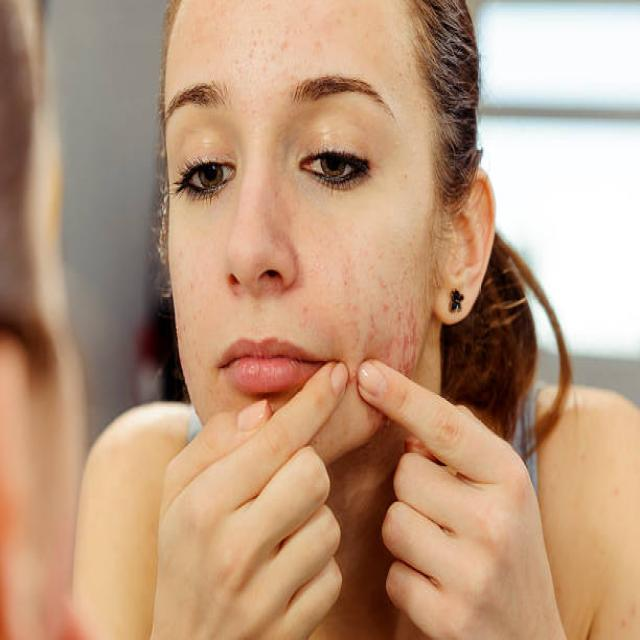Dry-Skin: (207, 209, 346, 373), (259, 0, 419, 125), (177, 21, 276, 193), (326, 266, 418, 391), (172, 233, 216, 368), (393, 241, 497, 272)
